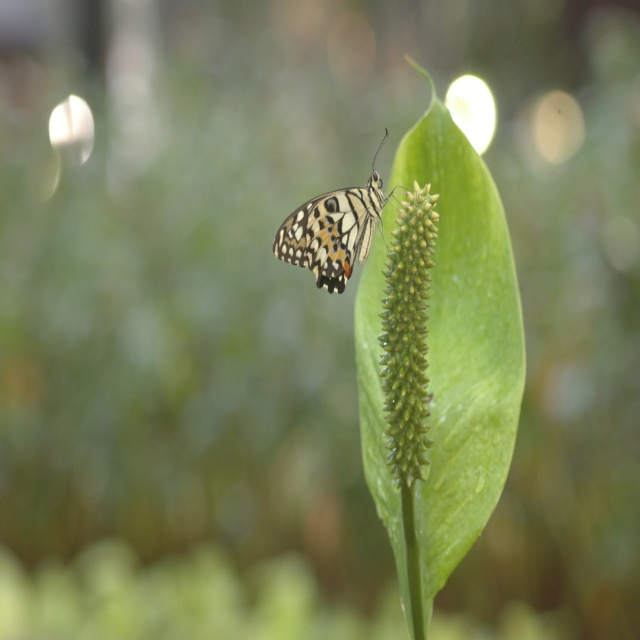Butterfly: (274, 147, 391, 291)
